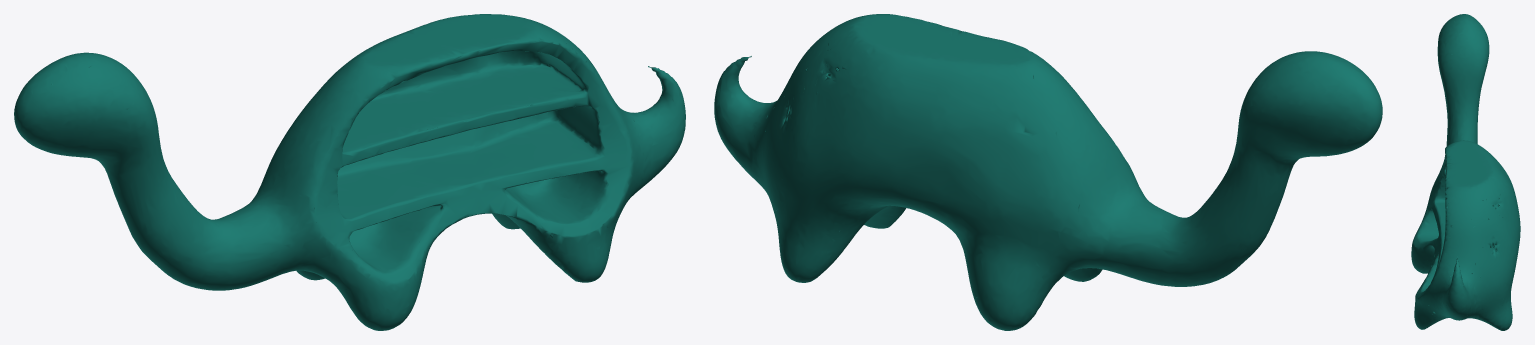
The model's file is nessie.glb.
3 renders of one model, left to right at view 1: azimuth 30°, elevation 25°; view 2: azimuth 150°, elevation 25°; view 3: azimuth 270°, elevation 25°, orthographic. The views are drawn at different scales.
Visible parts, largest first — view 1: NessieTurquoise_Mesh; view 2: NessieTurquoise_Mesh; view 3: NessieTurquoise_Mesh.
Boxes of the visible parts, x1=… form: NessieTurquoise_Mesh: x1=14, y1=14, x2=685, y2=330; NessieTurquoise_Mesh: x1=714, y1=14, x2=1382, y2=330; NessieTurquoise_Mesh: x1=1411, y1=14, x2=1520, y2=330.
Bounding box in the file's own units: 0.9996 × 0.453 × 0.2509.
